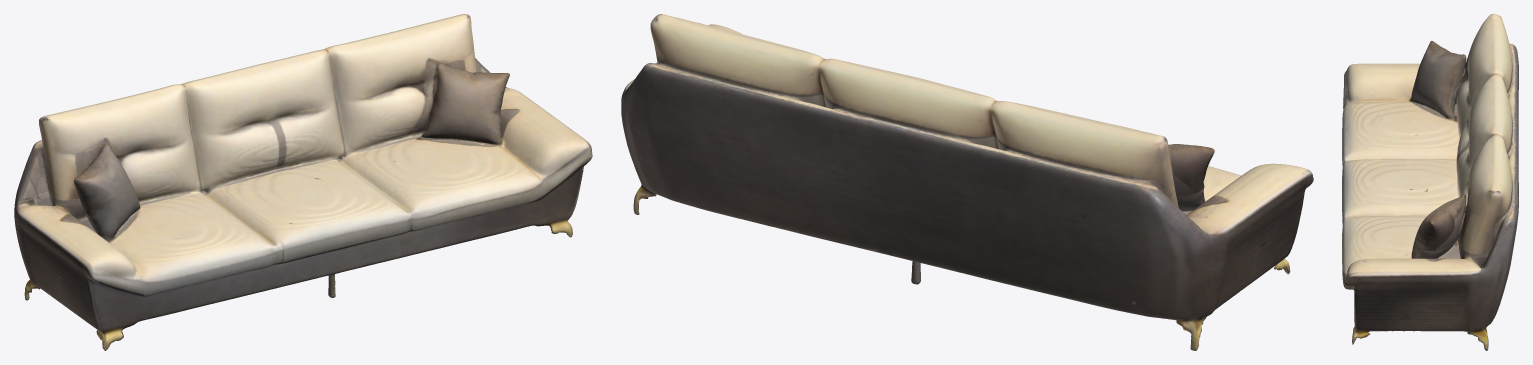
The model's file is sofa-0.glb.
3 views of the same model, side by side, from view 1: azimuth 30°, elevation 25°; view 2: azimuth 150°, elevation 25°; view 3: azimuth 270°, elevation 25° (orthographic). The views are drawn at different scales.
Size of the model in its own units: 2 by 0.6683 by 0.7056.
Materials: 1 (1 with a texture image).
